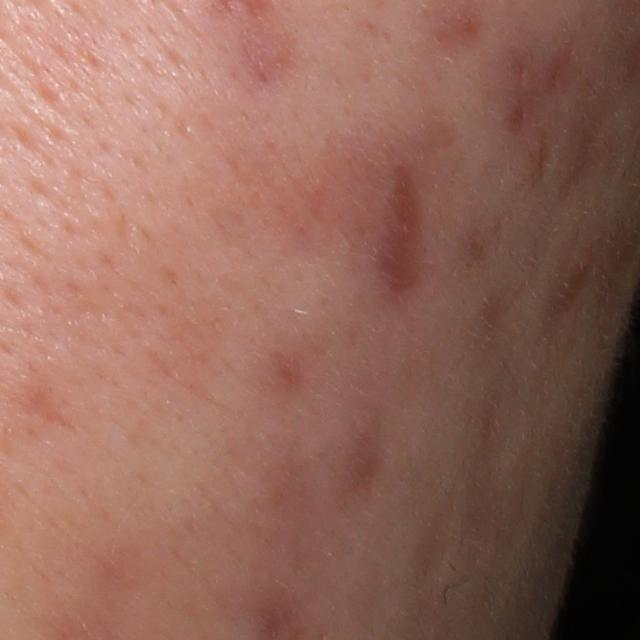atrophic_scar: (370, 159, 436, 298), (564, 119, 608, 192), (486, 397, 515, 482), (419, 521, 452, 590)
